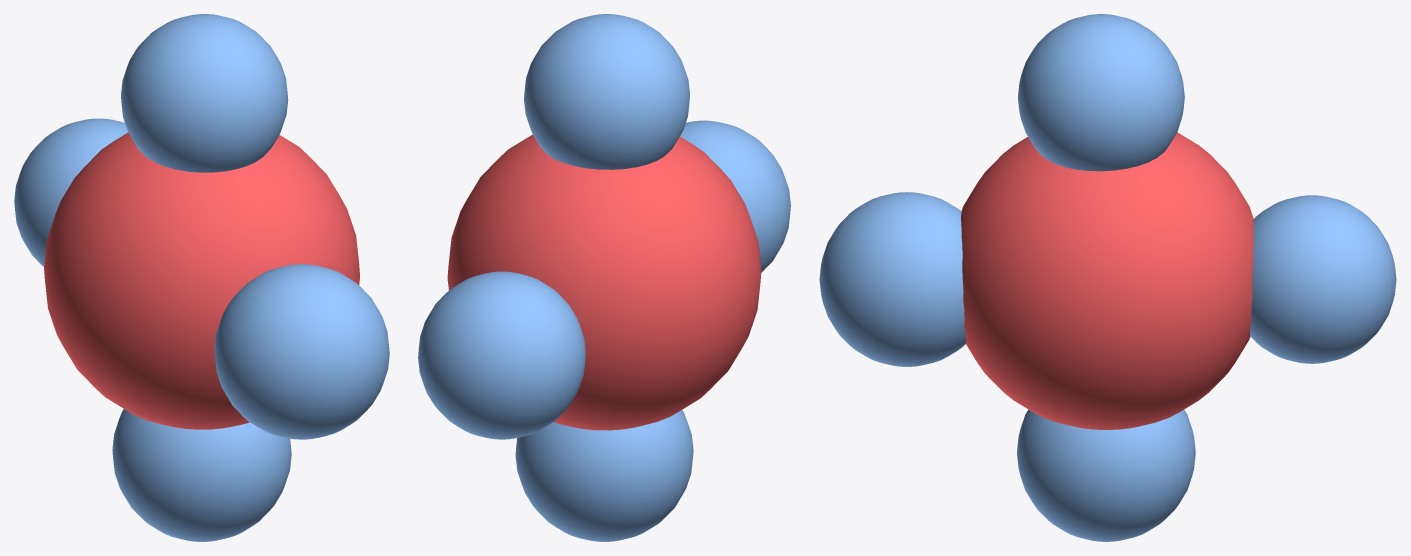
Rendered from fig4_5.fbx.
3 views of the same model, side by side, from view 1: azimuth 30°, elevation 25°; view 2: azimuth 150°, elevation 25°; view 3: azimuth 270°, elevation 25° (orthographic).
Visible parts, largest first — view 1: Sphere, Sphere.003, Sphere.004, Sphere.001, Sphere.002; view 2: Sphere, Sphere.002, Sphere.004, Sphere.001, Sphere.003; view 3: Sphere, Sphere.003, Sphere.004, Sphere.002, Sphere.001.
Part boxes in pixels (x1,y1,x2,y2): Sphere: [44, 132, 359, 429]; Sphere.003: [214, 264, 389, 439]; Sphere.004: [121, 14, 288, 172]; Sphere.001: [112, 409, 291, 541]; Sphere.002: [14, 118, 127, 266]; Sphere: [447, 134, 761, 430]; Sphere.002: [418, 271, 585, 439]; Sphere.004: [524, 14, 689, 169]; Sphere.001: [515, 410, 693, 541]; Sphere.003: [680, 120, 790, 272]; Sphere: [961, 132, 1254, 429]; Sphere.003: [819, 192, 965, 366]; Sphere.004: [1017, 14, 1184, 171]; Sphere.002: [1250, 195, 1396, 363]; Sphere.001: [1017, 409, 1195, 541].
Size of the model in its own units: 325 by 582 by 595.
